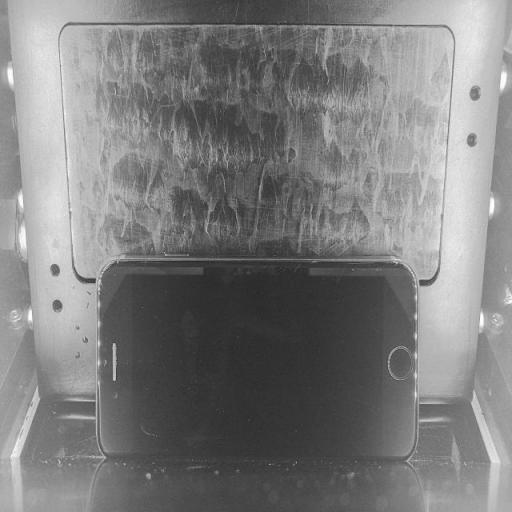phone: (83, 241, 436, 465)
